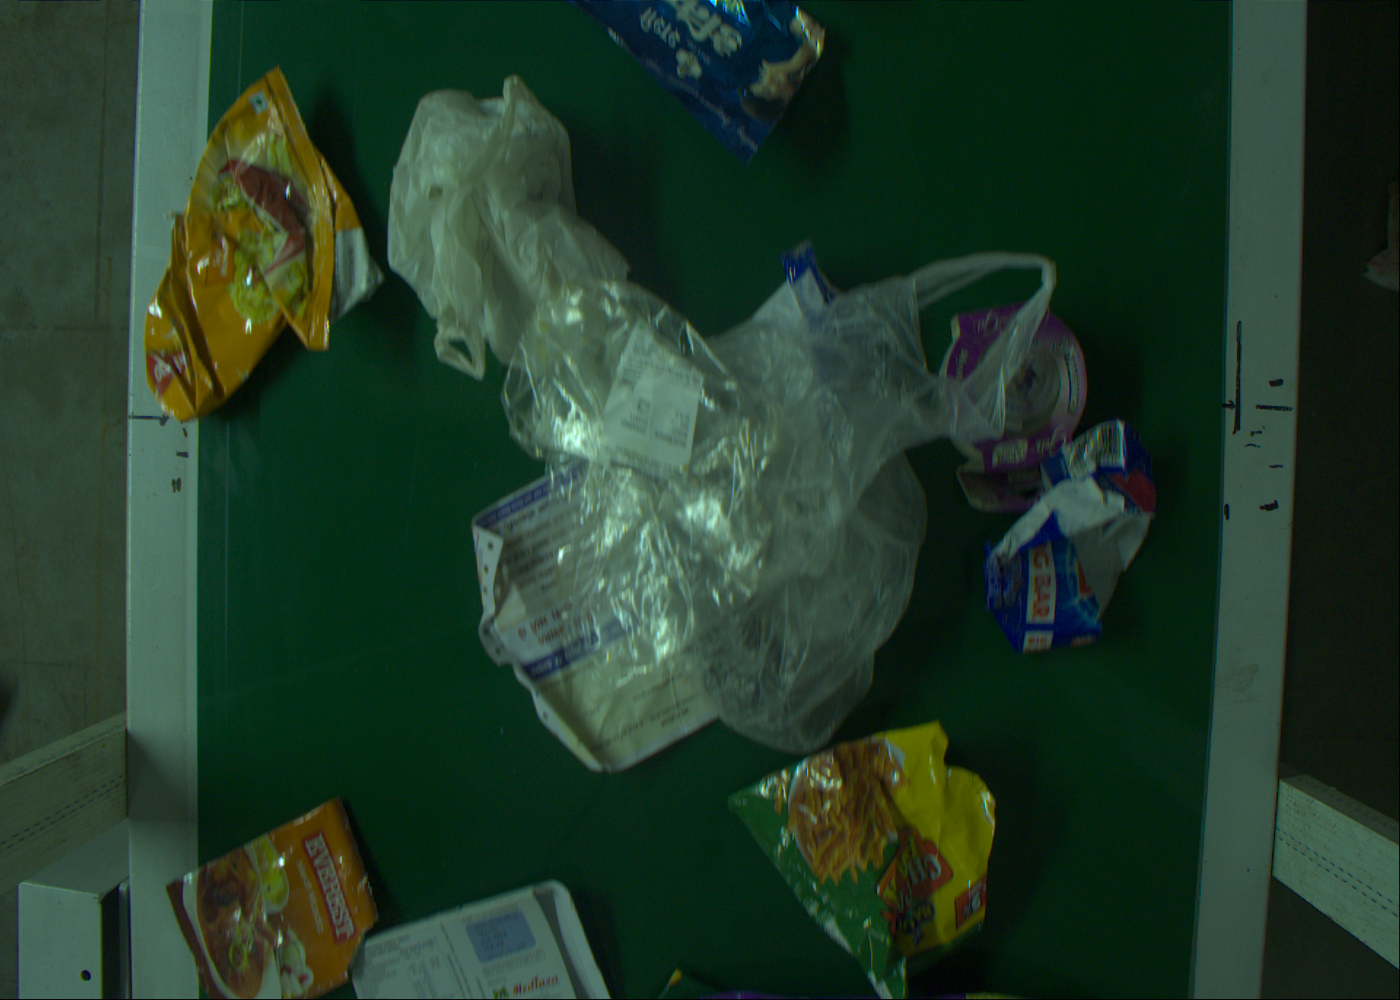hm_ldpe: (513, 277, 901, 721)
multilayer_plastic: (145, 76, 359, 420), (743, 721, 997, 982), (176, 792, 384, 999)
pp_w: (983, 439, 1149, 669)
